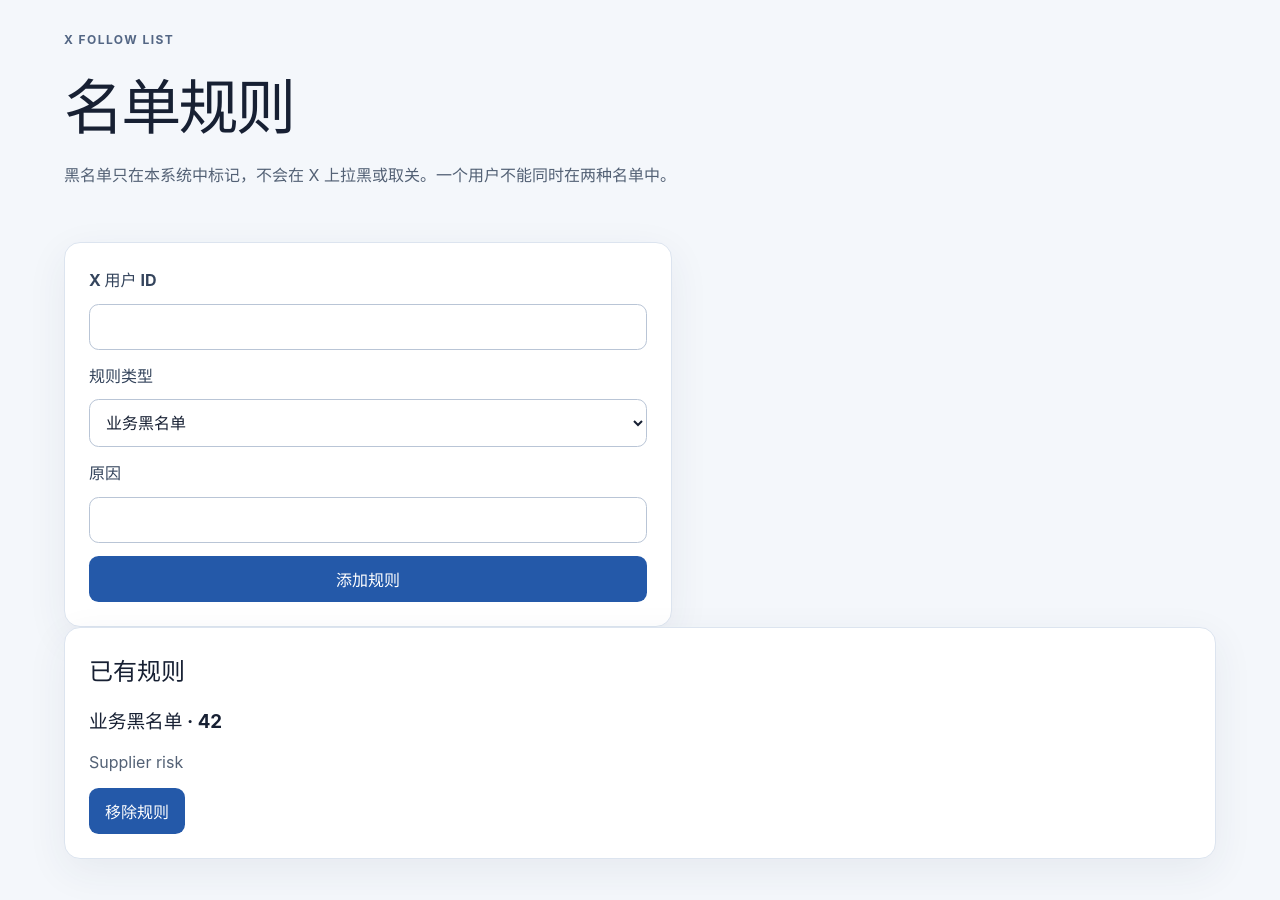
Test: business blocklist management › removes a rule with its current version
Expected: the text "Supplier risk" is shown, 89,752 -> 183,772
Click the button "移除规则" at (137, 811), box 89,788 -> 185,834
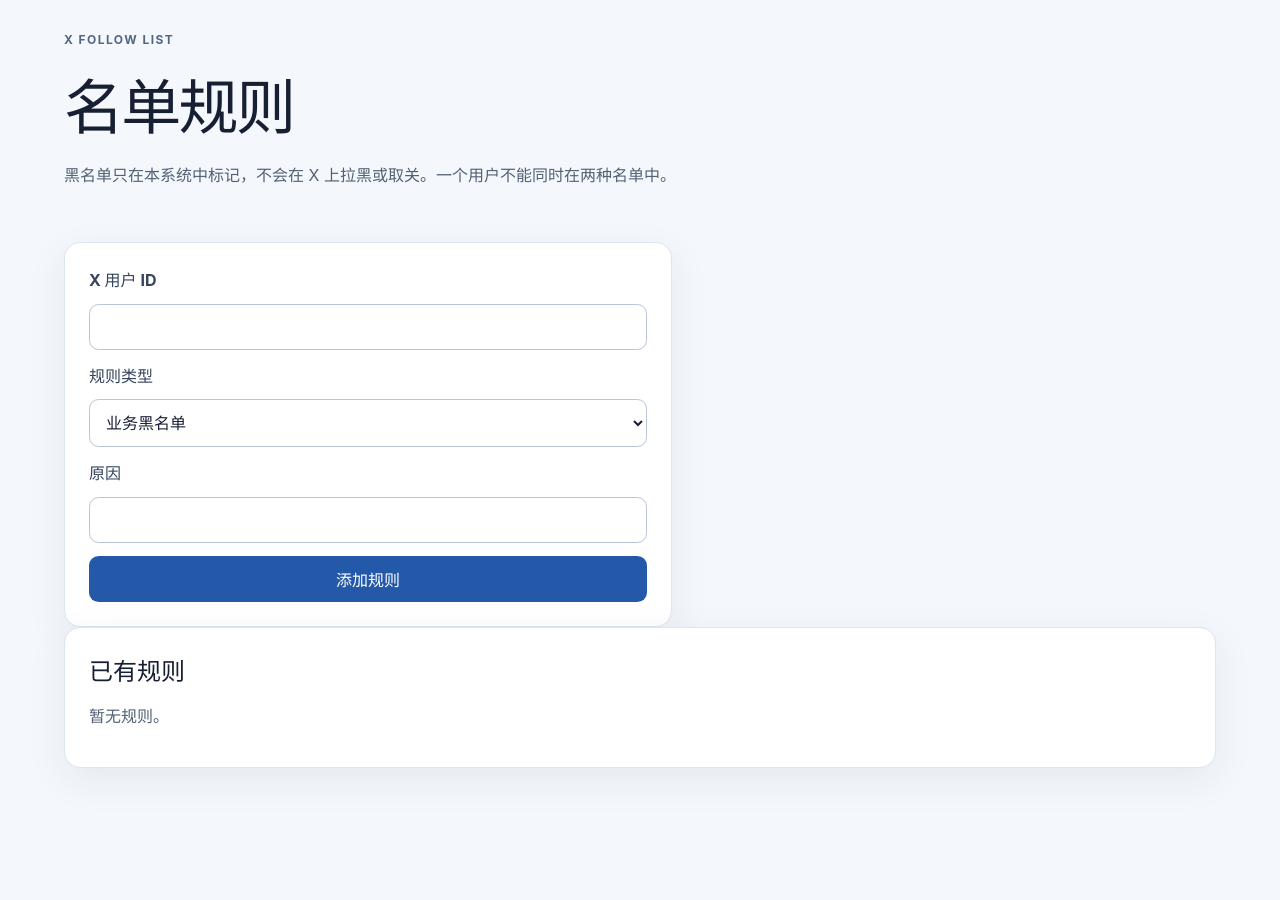
Now the text "Supplier risk" is gone
